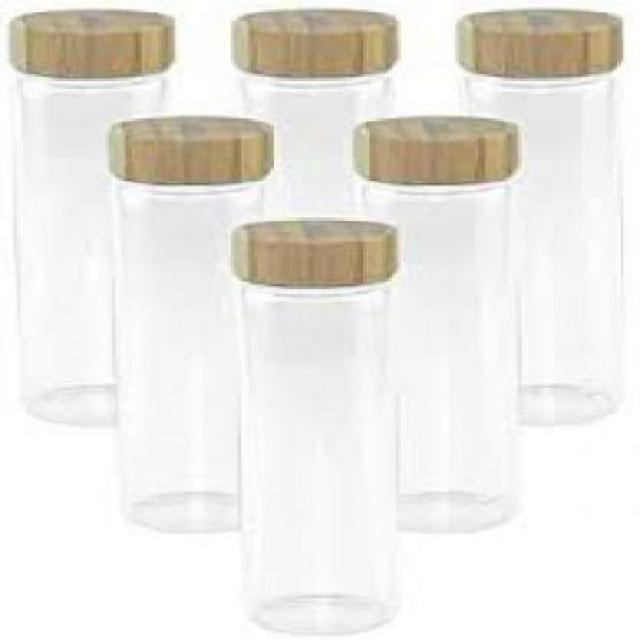kaca: (349, 172, 522, 530), (452, 67, 620, 416), (106, 171, 265, 531), (238, 280, 397, 632), (11, 69, 166, 425), (231, 72, 392, 223)
